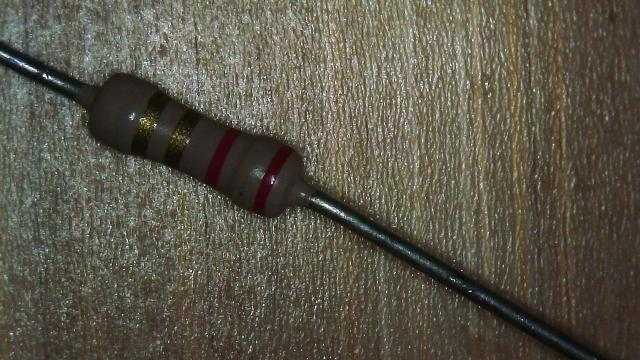gold: (164, 109, 198, 168), (132, 97, 166, 154)
red: (253, 145, 293, 214), (205, 128, 240, 188)
resistor: (83, 49, 344, 241)
